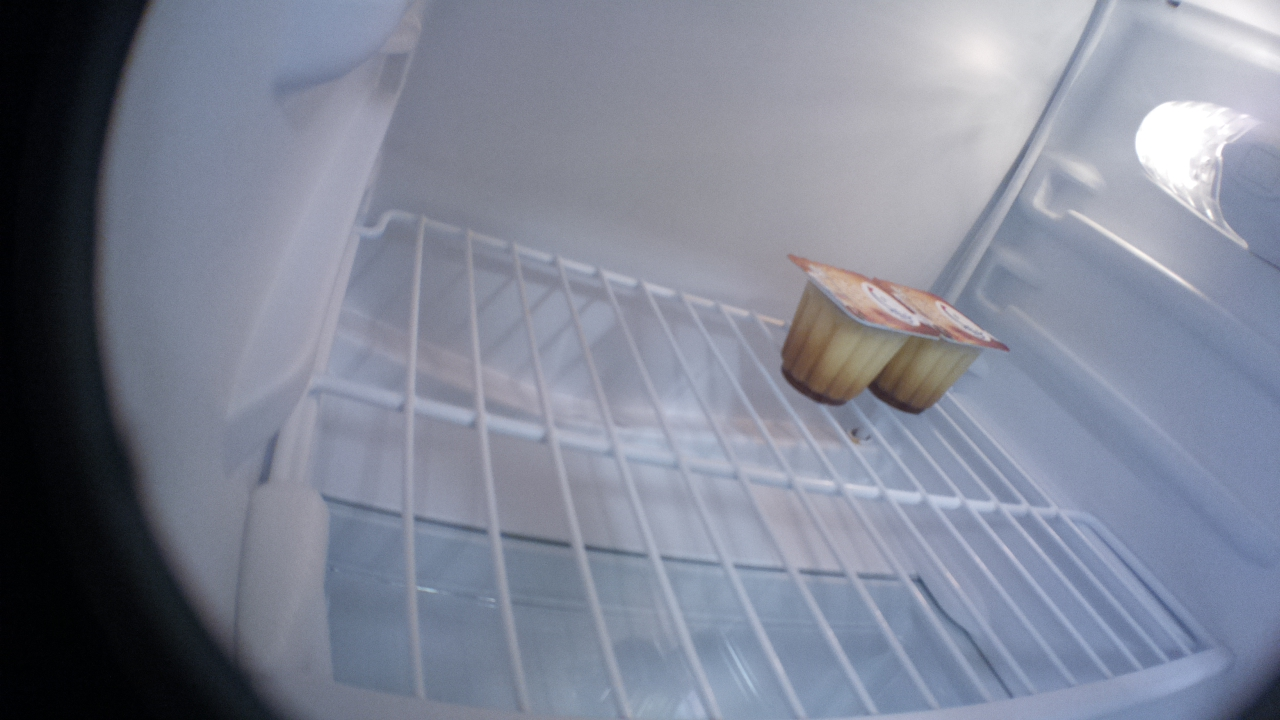caramel: (779, 250, 928, 409), (884, 278, 1009, 412)
